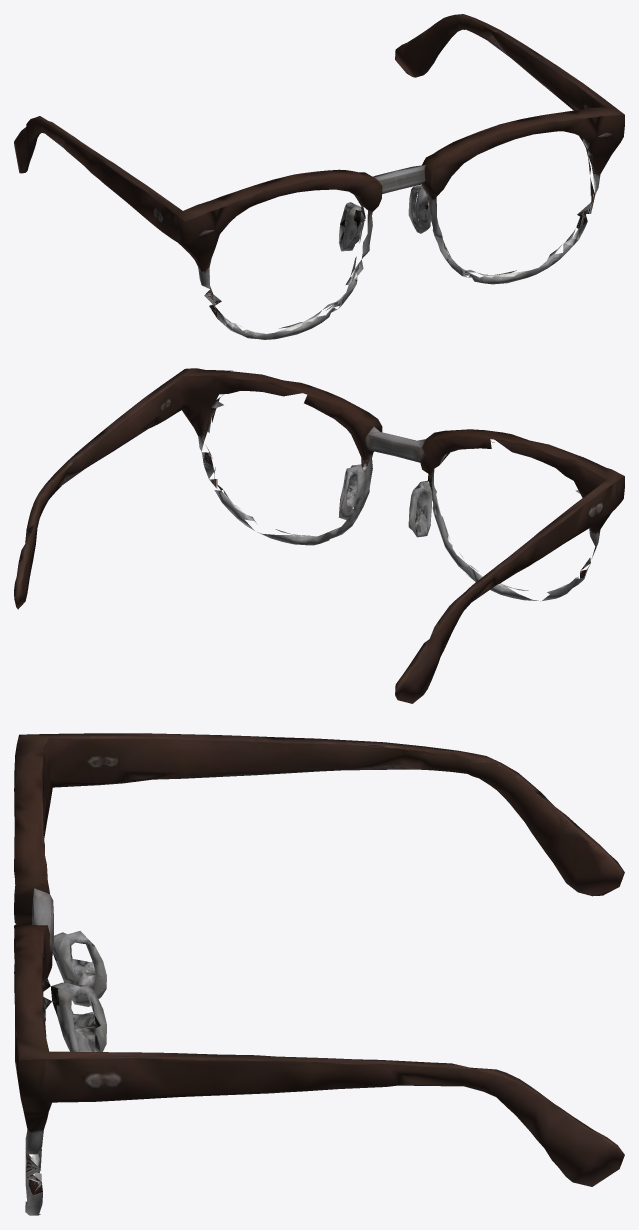
File: head_accessory__0_052-optimized.glb
3 renders of one model, top to bottom at view 1: azimuth 30°, elevation 25°; view 2: azimuth 150°, elevation 25°; view 3: azimuth 270°, elevation 25°, orthographic. The views are drawn at different scales.
Visible parts, largest first — view 1: geometry_0_052; view 2: geometry_0_052; view 3: geometry_0_052.
Boxes of the visible parts, x1,y1,x2,y2 form: geometry_0_052: (14, 14, 624, 339); geometry_0_052: (14, 368, 624, 703); geometry_0_052: (14, 733, 624, 1215).
Bounding box in the file's own units: 0.7788 × 0.2636 × 0.617.
Materials: 1 (1 with a texture image).
